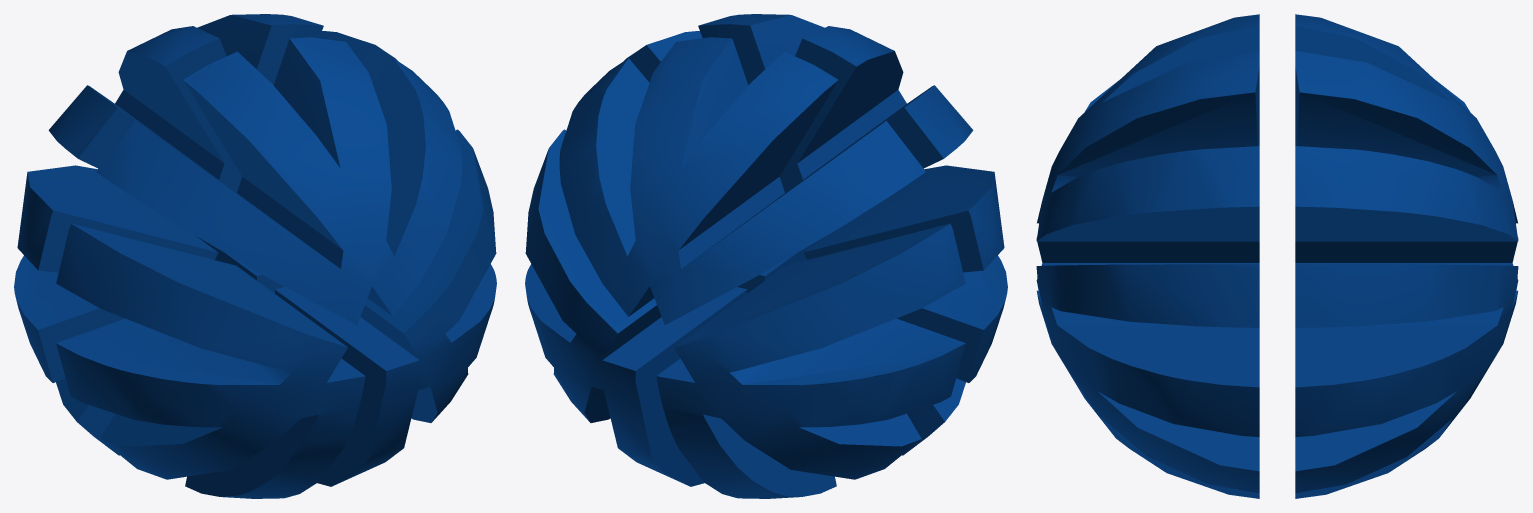
The model's file is Frenchfaso Lod_2.FBX.
The picture shows the model from 3 angles, left to right: view 1: azimuth 30°, elevation 25°; view 2: azimuth 150°, elevation 25°; view 3: azimuth 270°, elevation 25°; orthographic projection.
Parts seen in each view (by area): view 1: GeoSphere01; view 2: GeoSphere01; view 3: GeoSphere01.
Boxes of the visible parts, <box> form: GeoSphere01: <box>14,14,496,498</box>; GeoSphere01: <box>525,14,1007,498</box>; GeoSphere01: <box>1036,14,1518,498</box>.
Size of the model in its own units: 40.33 by 40.39 by 40.43.
